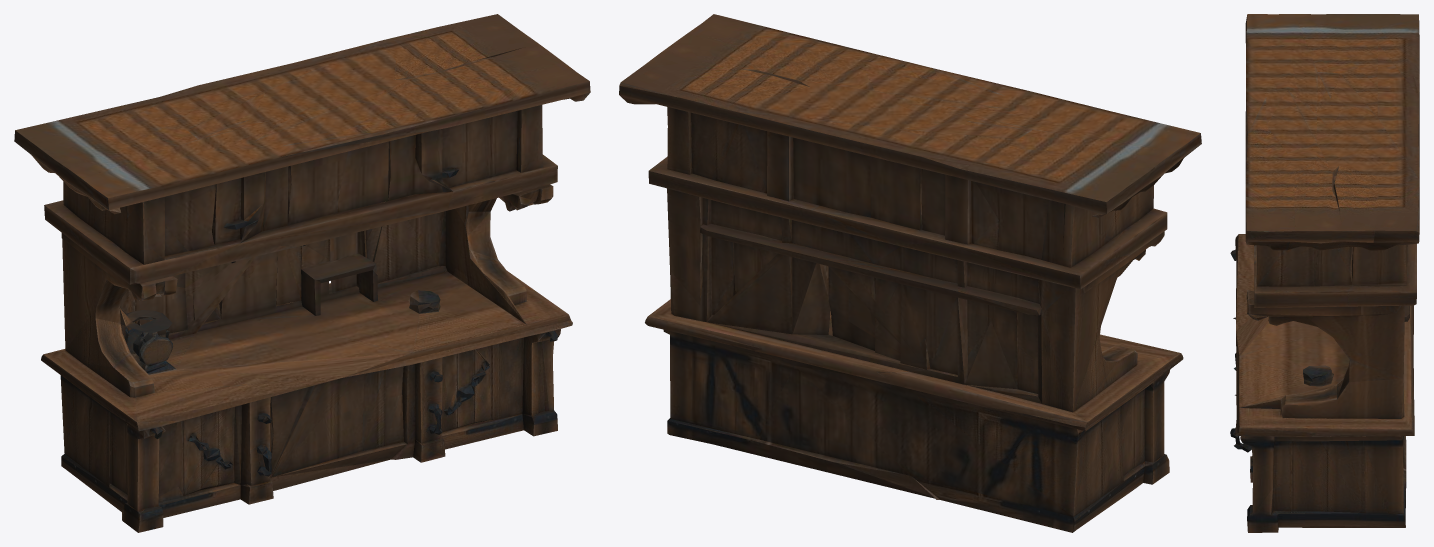
File: counter.glb
3 renders of one model, left to right at view 1: azimuth 30°, elevation 25°; view 2: azimuth 150°, elevation 25°; view 3: azimuth 270°, elevation 25°, orthographic. The views are drawn at different scales.
Parts seen in each view (by area): view 1: counter; view 2: counter; view 3: counter.
Boxes of the visible parts, x1,y1,x2,y2 form: counter: (14,14,590,532); counter: (619,14,1201,532); counter: (1230,14,1419,532).
Bounding box in the file's own units: 1.47 × 1 × 0.5432.
Materials: 1 (1 with a texture image).
